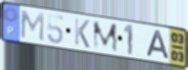1: (123, 24, 134, 57)
5: (47, 12, 65, 45)
A: (145, 29, 171, 61)
K: (73, 16, 91, 50)
M: (92, 21, 120, 54), (19, 9, 45, 43)
